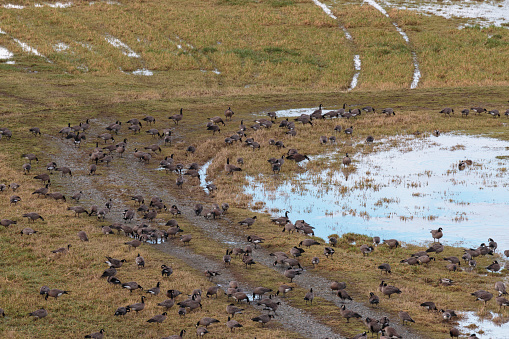goose: (38, 284, 73, 300), (223, 308, 244, 333), (338, 304, 362, 325), (378, 280, 404, 299), (366, 313, 390, 333), (222, 157, 244, 176), (27, 181, 54, 196), (166, 106, 186, 126), (157, 289, 176, 309), (268, 210, 293, 225), (179, 291, 202, 307), (252, 313, 275, 329), (394, 310, 417, 326), (80, 326, 108, 339), (26, 304, 50, 319), (273, 256, 303, 268), (472, 289, 494, 305), (122, 235, 145, 250), (146, 311, 169, 326), (130, 294, 148, 313), (98, 266, 118, 283), (294, 219, 314, 236), (87, 139, 101, 163), (237, 214, 258, 230), (301, 285, 317, 306), (257, 300, 282, 313), (205, 283, 223, 301), (282, 265, 300, 283), (131, 147, 150, 164), (49, 243, 73, 256), (174, 164, 186, 189), (66, 205, 87, 219), (293, 113, 314, 127), (274, 284, 295, 298), (250, 284, 271, 298), (245, 234, 266, 248), (22, 211, 46, 223), (195, 316, 221, 327), (206, 203, 221, 222), (203, 122, 223, 136), (121, 281, 144, 293), (376, 260, 393, 276), (440, 307, 457, 323), (427, 226, 445, 241), (278, 221, 297, 235), (104, 256, 128, 267), (58, 121, 71, 141), (233, 293, 253, 306), (360, 241, 376, 257), (310, 102, 325, 119), (159, 262, 174, 279), (486, 259, 503, 274), (43, 191, 67, 201), (419, 300, 437, 313), (134, 251, 146, 270), (163, 226, 182, 238), (113, 305, 128, 320), (96, 206, 110, 222), (146, 281, 162, 295), (479, 241, 495, 255), (368, 290, 381, 307), (32, 173, 52, 184), (206, 115, 228, 125), (143, 143, 163, 154), (267, 154, 287, 165), (222, 245, 232, 267), (98, 131, 116, 143), (107, 221, 125, 233), (103, 141, 117, 156), (101, 151, 116, 165), (400, 256, 421, 266), (20, 153, 39, 164), (383, 238, 402, 249), (323, 244, 336, 260), (297, 238, 320, 247), (186, 170, 203, 182), (330, 277, 347, 289), (19, 227, 39, 237), (121, 208, 135, 222), (71, 190, 86, 203), (337, 102, 350, 117), (204, 182, 219, 195), (336, 288, 351, 301), (159, 128, 175, 140), (341, 152, 353, 168), (170, 327, 186, 339), (193, 326, 209, 338), (241, 256, 257, 268), (487, 237, 499, 253), (77, 230, 90, 244), (105, 119, 119, 132), (191, 203, 205, 216), (168, 204, 182, 217), (8, 195, 23, 207), (69, 120, 84, 132), (168, 152, 177, 172), (291, 243, 303, 258), (310, 257, 322, 272), (495, 280, 507, 295), (271, 160, 282, 176), (470, 105, 489, 114), (56, 166, 73, 176), (143, 128, 160, 138), (443, 255, 460, 265), (120, 225, 134, 237), (230, 245, 244, 257), (203, 270, 221, 279), (1, 218, 17, 228), (422, 253, 438, 263), (436, 107, 456, 115), (111, 121, 124, 133), (1, 128, 12, 142), (28, 126, 42, 137), (100, 225, 114, 236), (225, 105, 236, 119), (489, 107, 503, 118), (75, 131, 84, 148), (381, 107, 398, 116), (144, 210, 161, 219), (87, 163, 97, 178), (84, 118, 94, 133), (127, 117, 142, 127), (131, 194, 146, 204), (89, 202, 97, 220), (442, 263, 458, 272), (7, 182, 20, 193), (45, 160, 58, 171), (149, 196, 162, 207), (181, 233, 194, 244), (224, 287, 235, 300), (268, 250, 288, 257), (143, 115, 158, 124), (129, 124, 144, 133), (462, 247, 481, 254), (345, 125, 356, 137), (266, 110, 277, 122), (455, 160, 467, 171), (230, 134, 243, 144), (117, 137, 131, 146), (335, 120, 346, 131), (104, 196, 114, 208), (348, 108, 363, 116), (318, 134, 328, 146), (152, 202, 167, 210), (165, 219, 182, 226), (468, 258, 477, 271), (286, 127, 300, 135), (222, 202, 232, 213), (118, 144, 127, 156), (223, 137, 235, 146), (362, 105, 377, 112), (159, 155, 167, 168), (431, 128, 441, 138), (22, 164, 31, 175), (278, 118, 289, 127), (228, 279, 237, 290), (460, 107, 471, 116), (250, 123, 264, 130), (150, 230, 157, 244), (329, 133, 337, 145), (263, 120, 275, 128), (250, 142, 262, 150), (460, 252, 472, 260), (326, 110, 339, 117), (234, 131, 249, 137), (275, 141, 285, 150), (137, 227, 148, 235), (239, 119, 246, 131), (498, 297, 505, 309), (364, 135, 374, 143), (138, 205, 149, 212), (253, 118, 266, 123), (245, 137, 254, 144), (1, 182, 5, 192)
